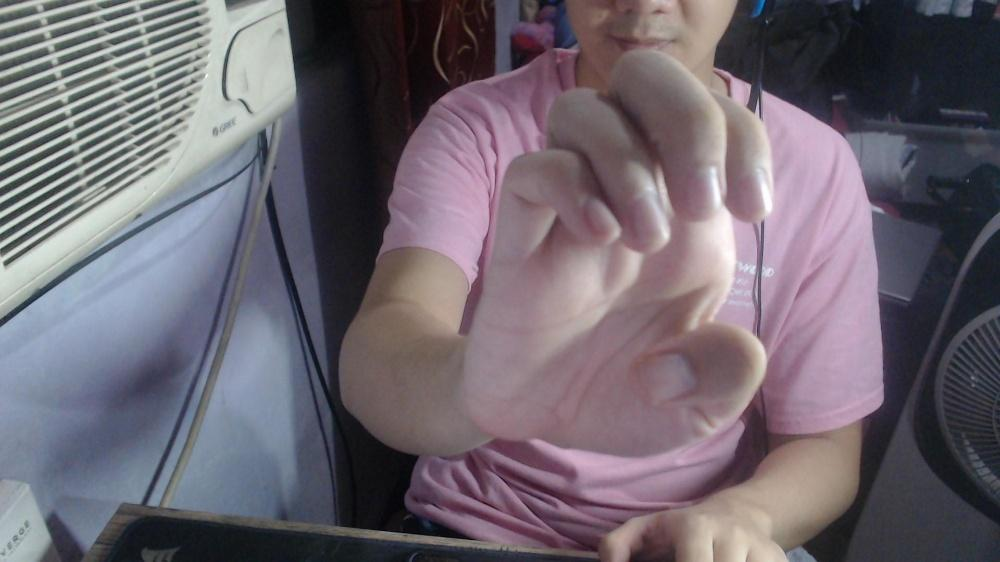e: (458, 45, 779, 463)
